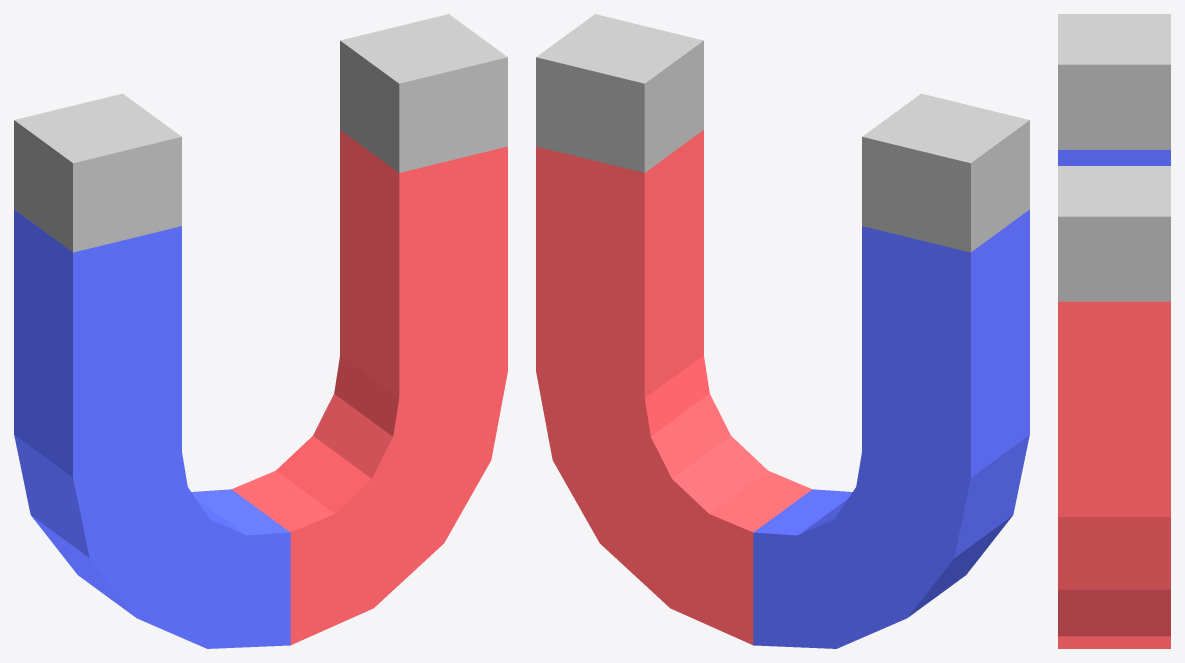
File: Magnet.fbx
3 views of the same model, side by side, from view 1: azimuth 30°, elevation 25°; view 2: azimuth 150°, elevation 25°; view 3: azimuth 270°, elevation 25° (orthographic). The views are drawn at different scales.
Visible parts, largest first — view 1: Magnet; view 2: Magnet; view 3: Magnet.
Part boxes in pixels (x1=…): Magnet: x1=14, y1=14, x2=507, y2=648; Magnet: x1=536, y1=14, x2=1029, y2=648; Magnet: x1=1058, y1=14, x2=1170, y2=648.
Bounding box in the file's own units: 0.85 × 0.2 × 1.
